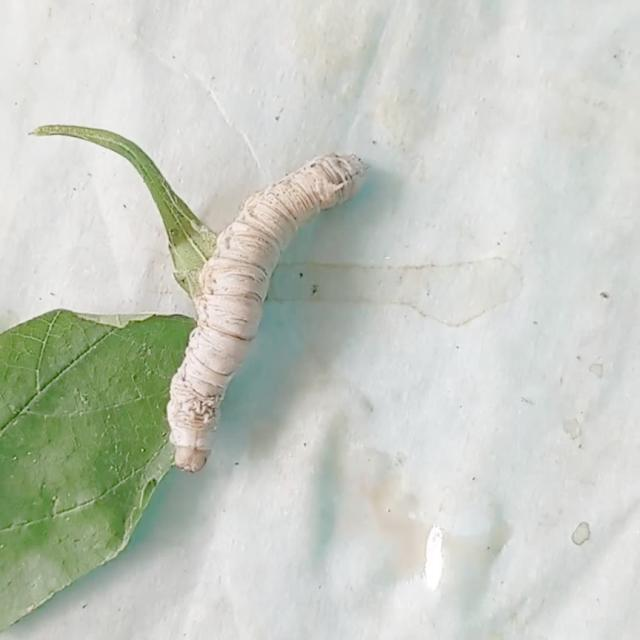Grasserie: (160, 128, 384, 486)
